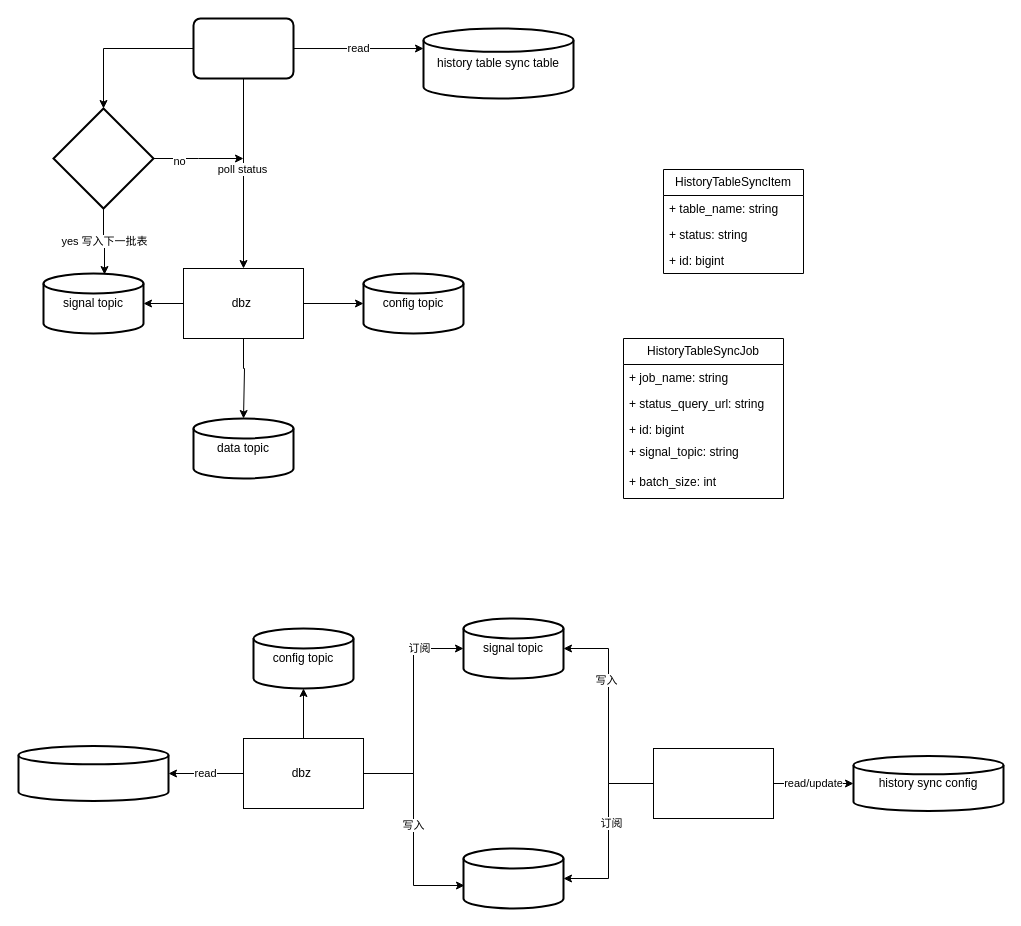
This 1021x926 diagram has some shape labels left out. Each missing label, with the centre of its shape:
"cron 1min->go exe" belongs at point (243, 48).
"job" belongs at point (713, 783).
"notification topic" belongs at point (513, 878).
"source" belongs at point (93, 773).
"status completed" belongs at point (103, 158).
